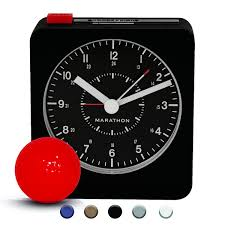alarm_clock: (22, 8, 191, 198), (28, 8, 191, 195), (28, 13, 191, 195)
